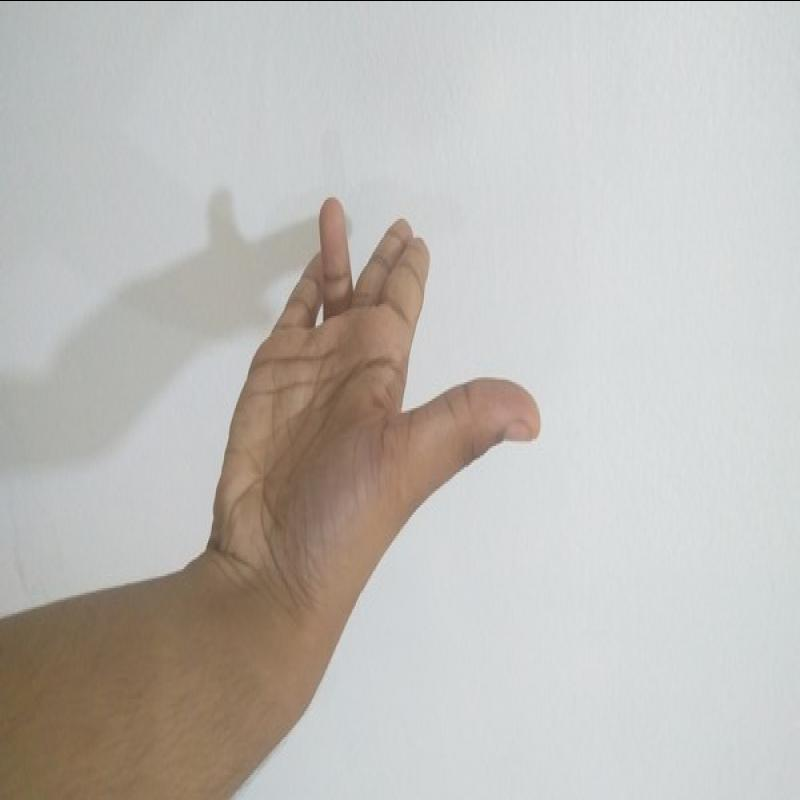Pathaaka: (199, 171, 551, 591)
